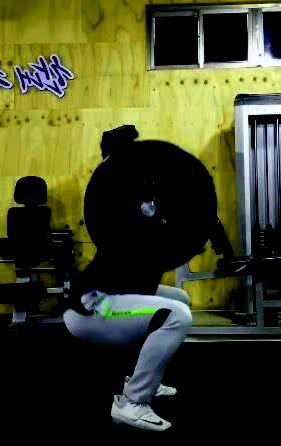Barbell: (136, 202, 157, 220)
